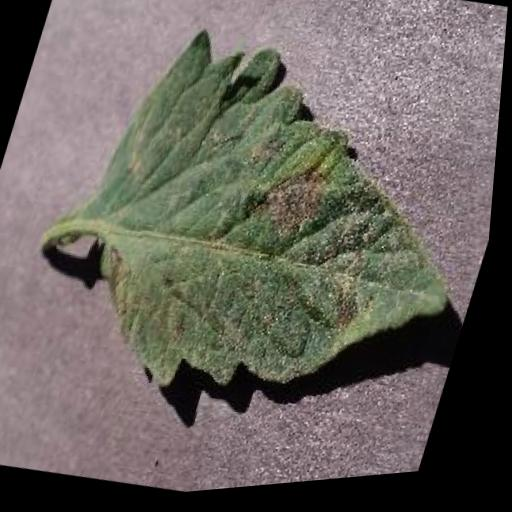Early Blight: (38, 1, 510, 458)
